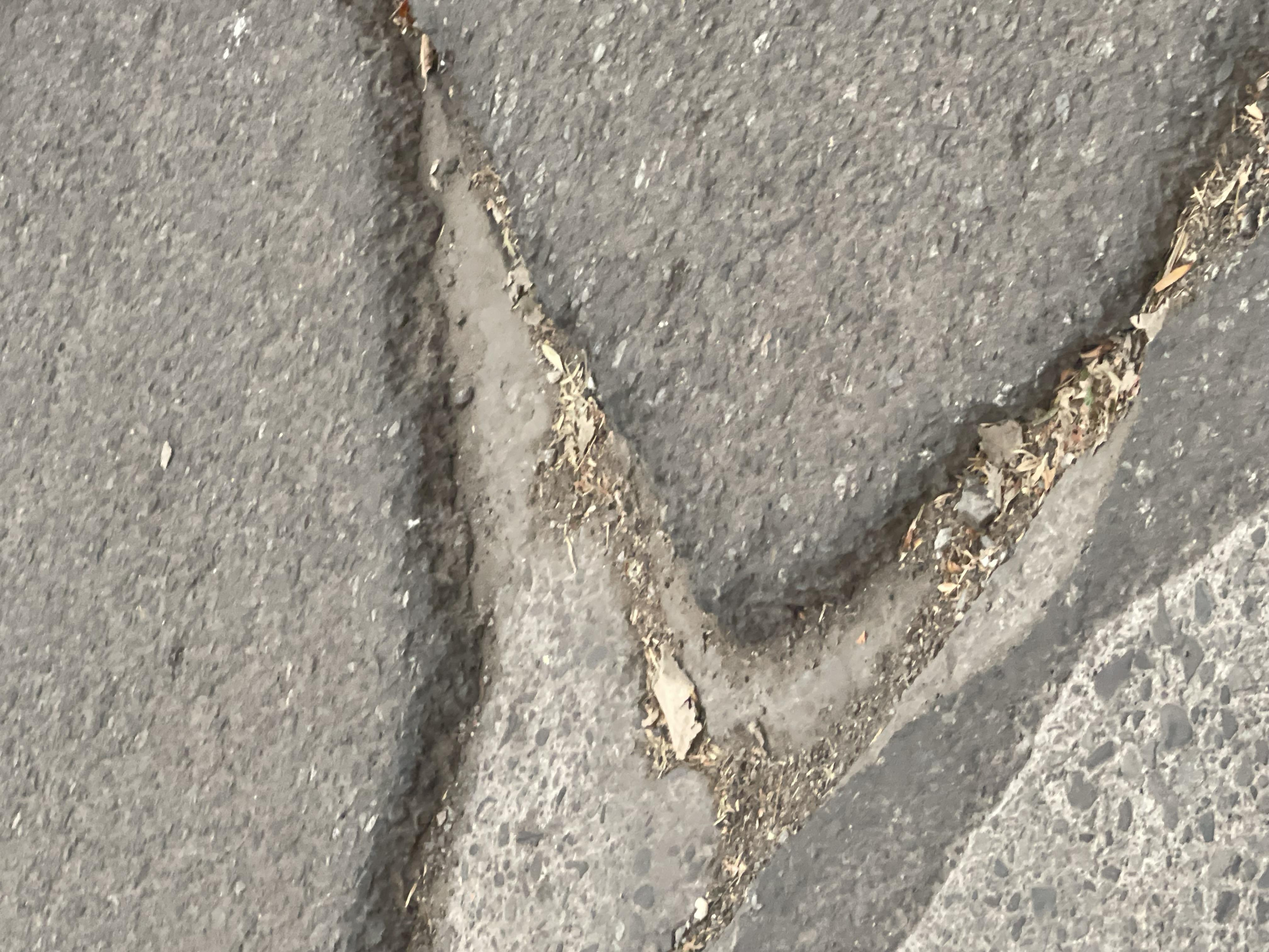BACHE: (364, 1, 1267, 952)
